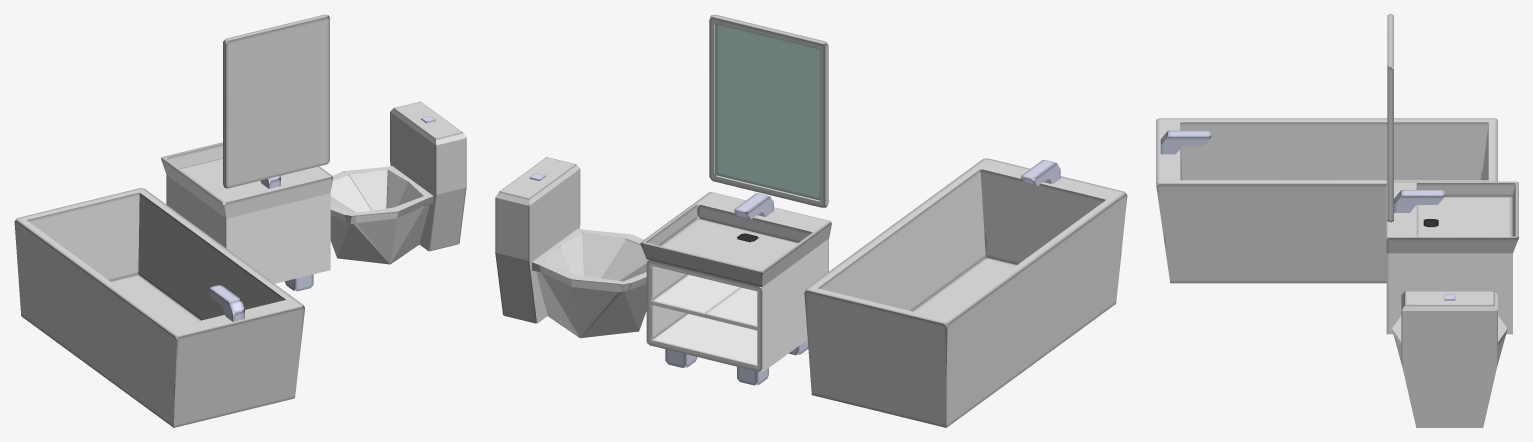
Rendered from Bathroom Assets.fbx.
3 views of the same model, side by side, from view 1: azimuth 30°, elevation 25°; view 2: azimuth 150°, elevation 25°; view 3: azimuth 270°, elevation 25° (orthographic). The views are drawn at different scales.
Parts seen in each view (by area): view 1: BathTub, Sink+Mirror, Toilet; view 2: BathTub, Sink+Mirror, Toilet; view 3: BathTub, Sink+Mirror, Toilet.
Boxes of the visible parts, x1,y1,x2,y2 form: BathTub: [14, 188, 304, 427]; Sink+Mirror: [161, 14, 332, 291]; Toilet: [330, 101, 466, 264]; BathTub: [804, 158, 1127, 427]; Sink+Mirror: [640, 14, 831, 385]; Toilet: [495, 157, 646, 338]; BathTub: [1156, 118, 1497, 283]; Sink+Mirror: [1386, 14, 1518, 334]; Toilet: [1392, 291, 1507, 427].
Size of the model in its own units: 415 by 266 by 305.
Materials: 3 (3 with a texture image).
